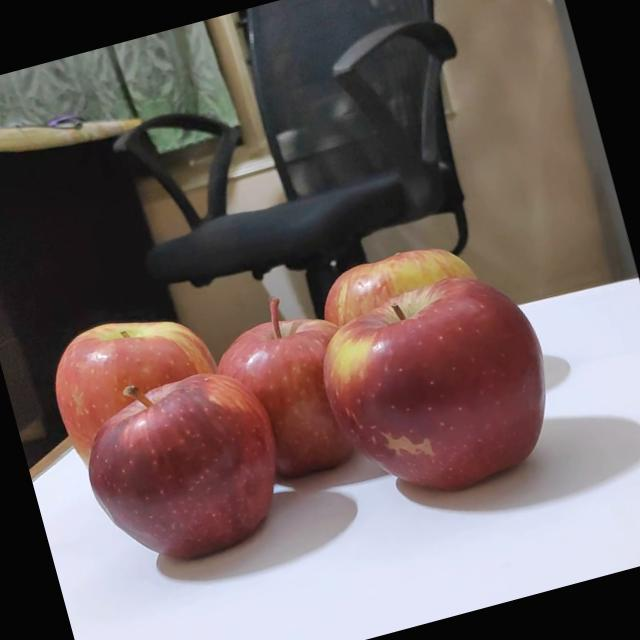apple: (296, 256, 572, 520), (56, 353, 292, 581), (182, 278, 378, 498), (34, 295, 238, 489), (306, 228, 504, 393)
